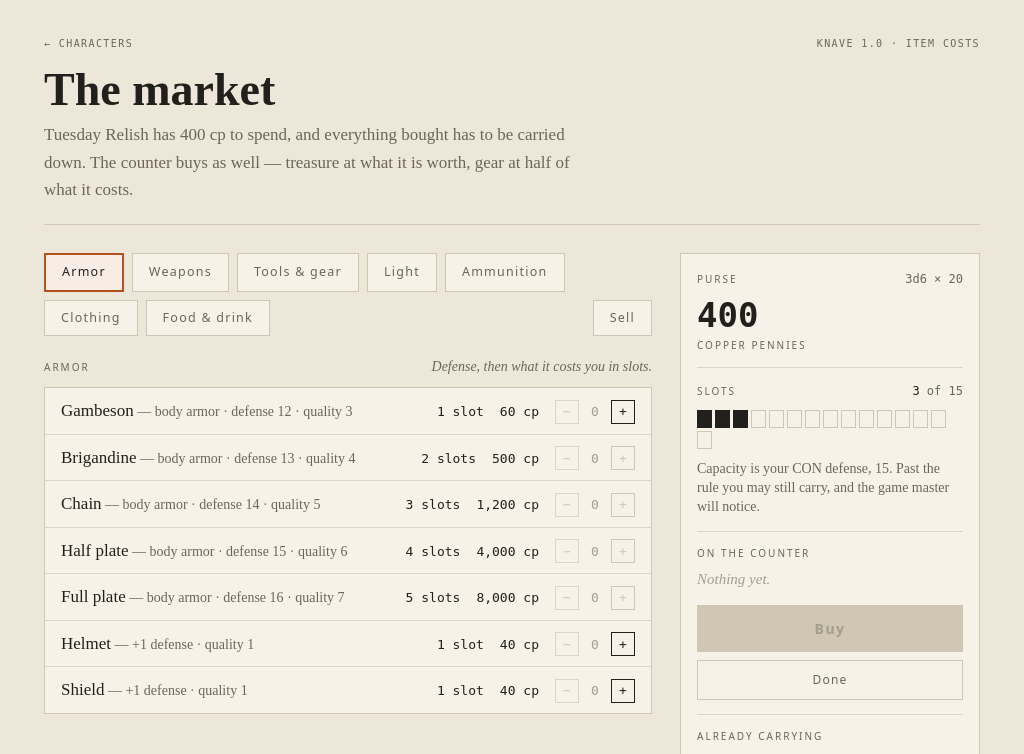
the shop › spends against the purse on the screen as things go on the counter
Click the button "+" in the row of "60 cp" at [623, 412], box [611,400,635,424]
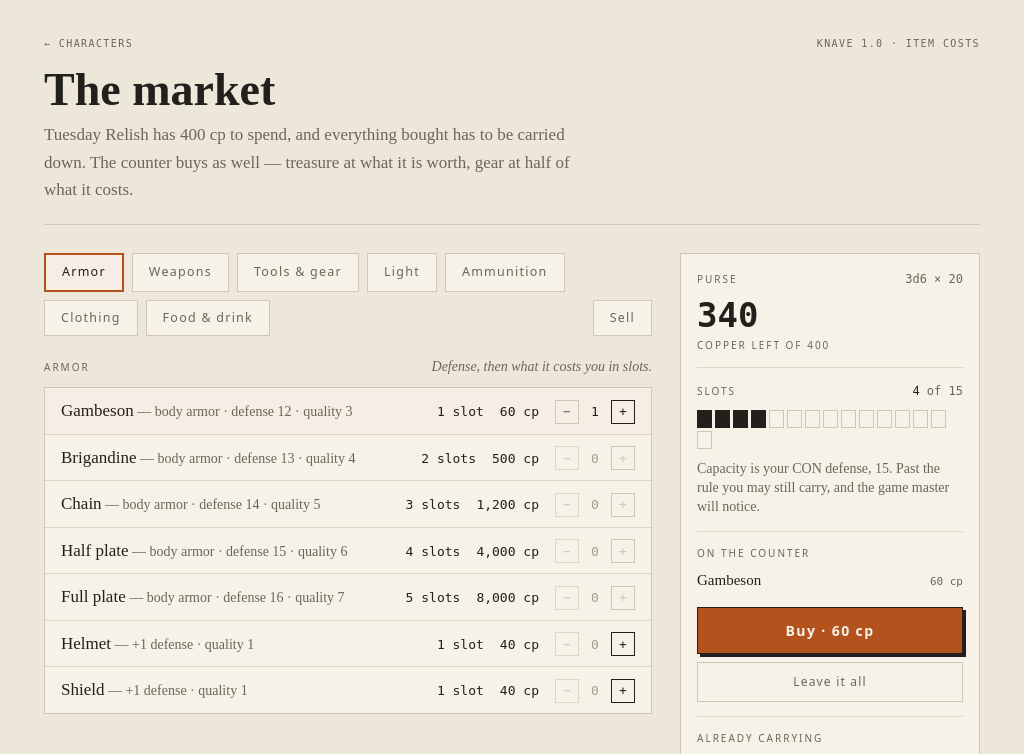
Now the text "340" is shown, box [697,295,758,335]
Now the text "Copper left of 400" is shown, box [697,338,830,352]
Now the text "Nothing yet." is gone
